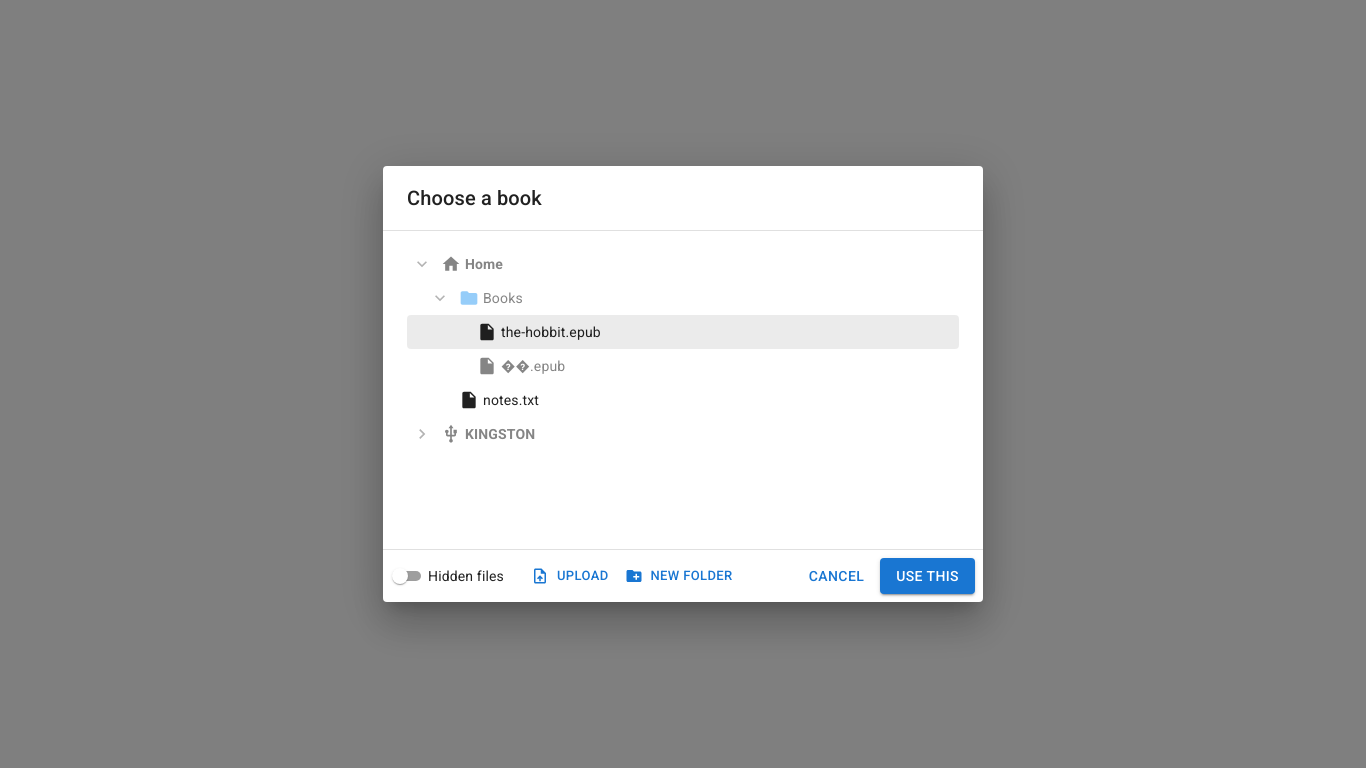
Test: what it will not accept › refuses a name that is not text
What coordinates should you click on to do the following:
click the text "��.epub"
I would click on:
 (533, 366)
Its box is [501,356,565,376].
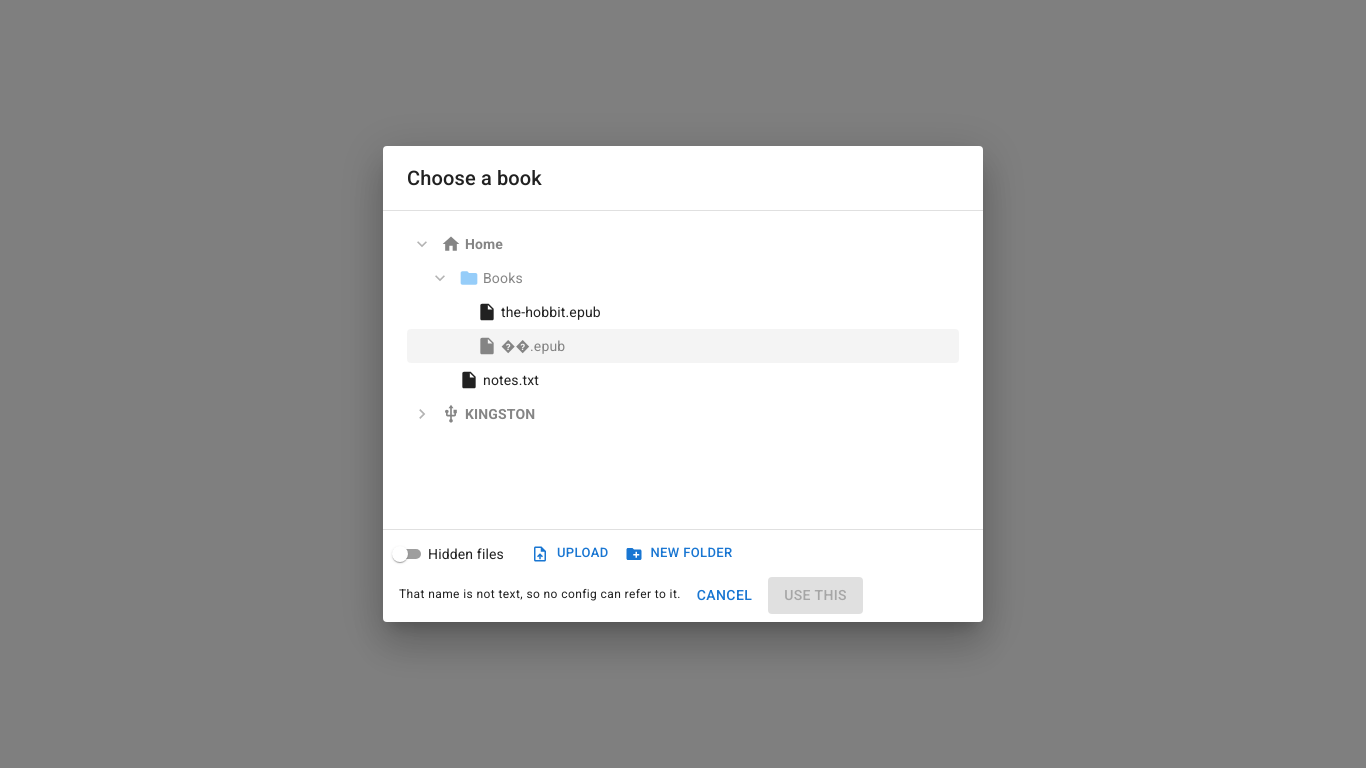
Now the text "That name is not text, so no config can refer to it." is shown, box [399,585,681,605]
Now the button "Use this" is disabled, box [768,577,863,614]
